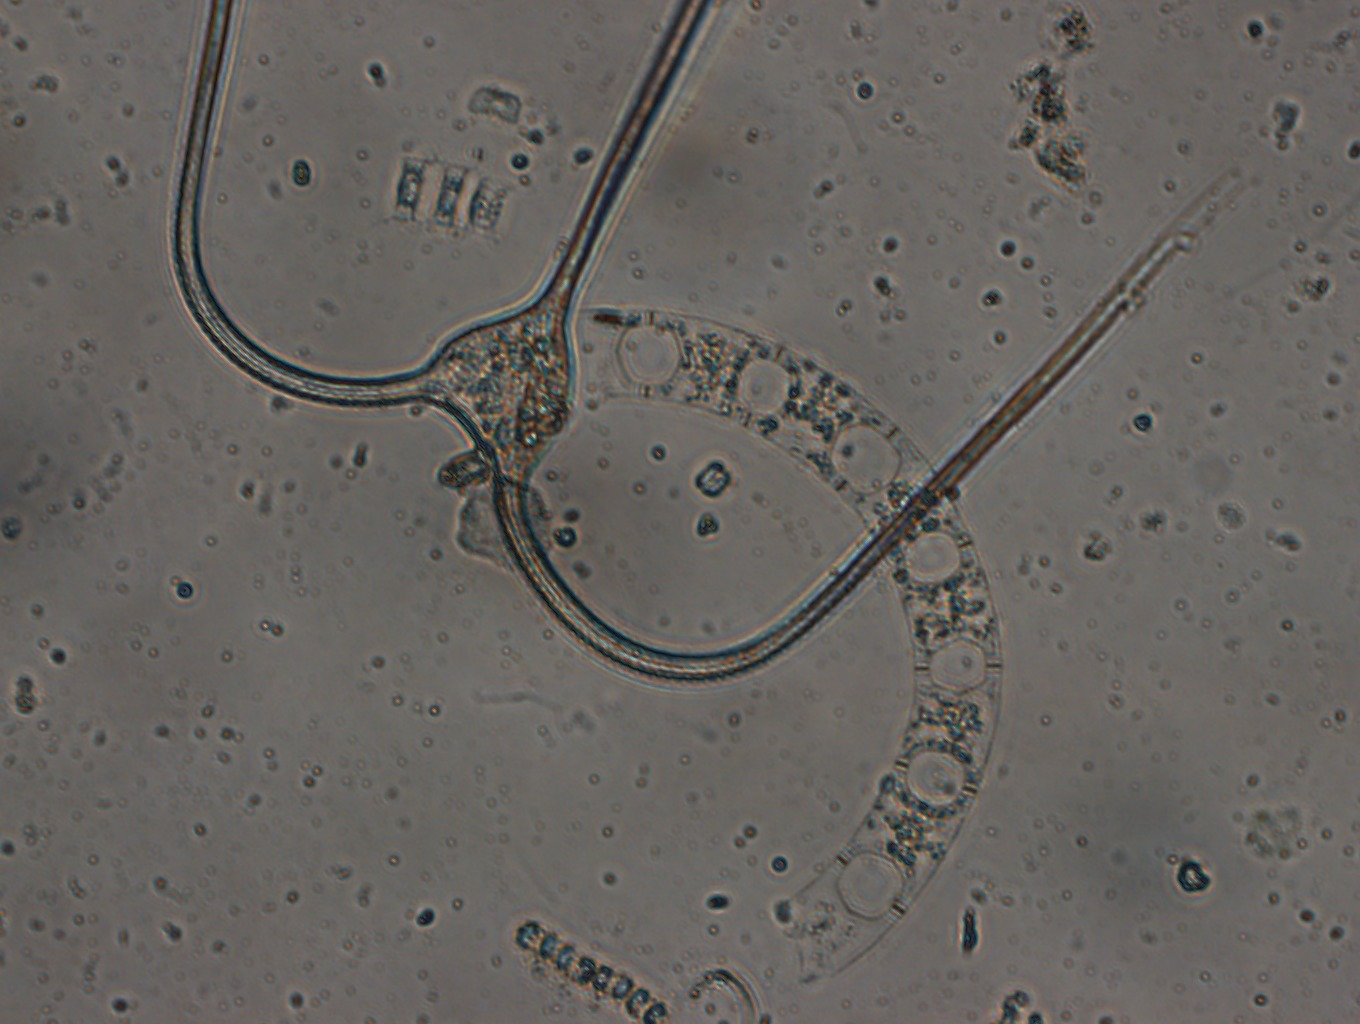ceratium trichoceros: (171, 3, 1211, 685)
eucampia: (570, 297, 1001, 983)
skeletonema: (510, 916, 682, 1024)
